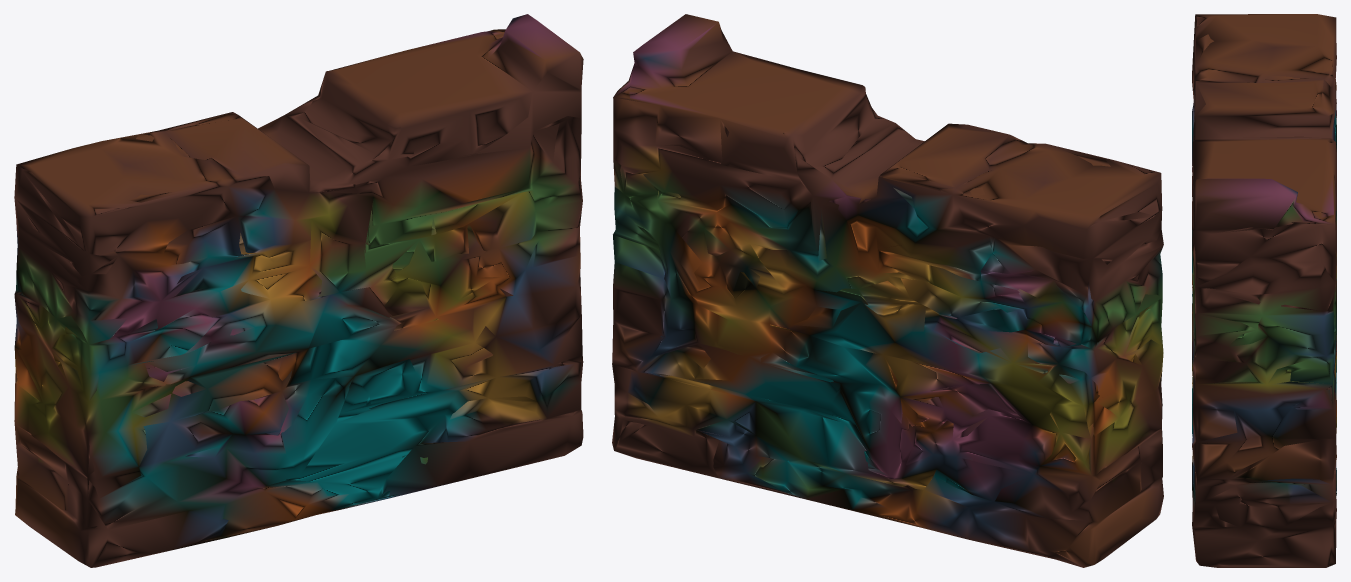
File: gen3d-graffiti-wall-lod0.glb
The picture shows the model from 3 angles, left to right: view 1: azimuth 30°, elevation 25°; view 2: azimuth 150°, elevation 25°; view 3: azimuth 270°, elevation 25°; orthographic projection. The views are drawn at different scales.
Parts seen in each view (by area): view 1: part_0; view 2: part_0; view 3: part_0.
Boxes of the visible parts, left/top/right/bottom form: part_0: left=14, top=14, right=583, bottom=567; part_0: left=612, top=14, right=1163, bottom=567; part_0: left=1192, top=14, right=1336, bottom=567.
Bounding box in the file's own units: 1.3 × 0.9996 × 0.3511.
